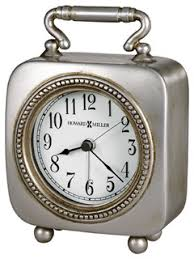alarm_clock: (6, 3, 186, 251)
